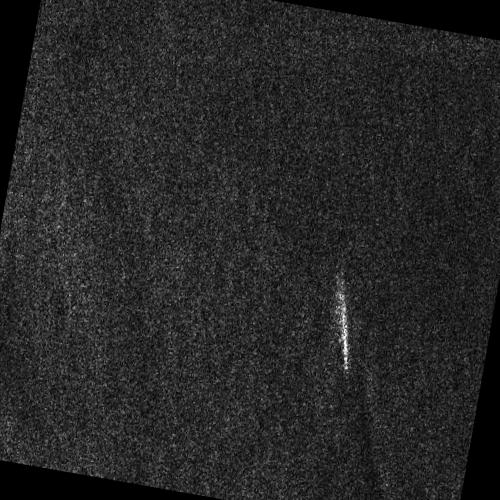ship: (341, 303, 349, 369)
